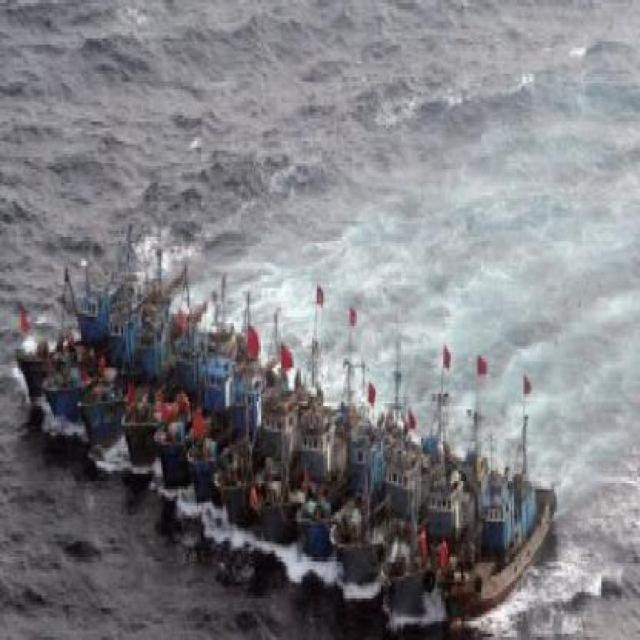fish-b: (13, 225, 182, 456), (417, 410, 577, 638), (186, 292, 300, 516), (311, 356, 405, 574)
